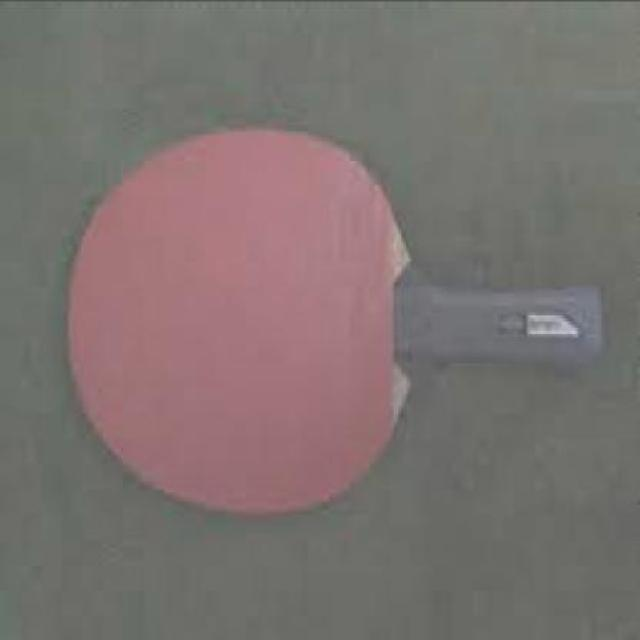table_tennis_racket: (57, 125, 438, 516)
